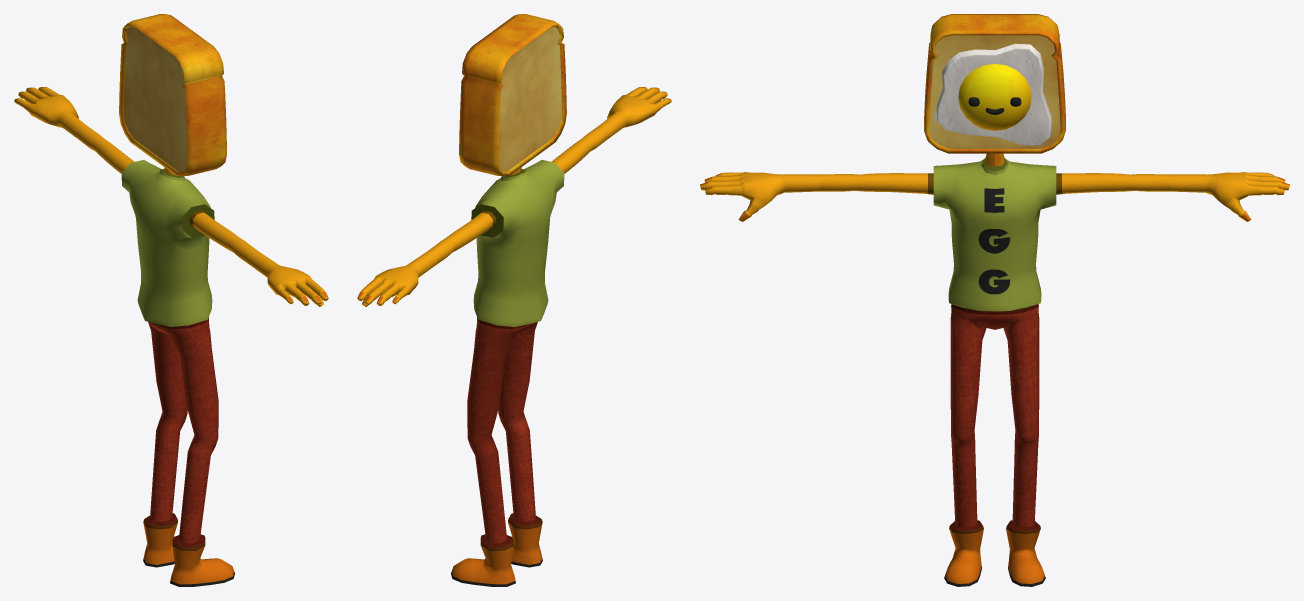
The model's file is Egg Boy.glb.
3 renders of one model, left to right at view 1: azimuth 30°, elevation 25°; view 2: azimuth 150°, elevation 25°; view 3: azimuth 270°, elevation 25°, orthographic.
Parts seen in each view (by area): view 1: _100Avatars_101_EggBoy; view 2: _100Avatars_101_EggBoy; view 3: _100Avatars_101_EggBoy.
Boxes of the visible parts, box(x1,y1,x2,y2) form: _100Avatars_101_EggBoy: box(14, 14, 328, 586); _100Avatars_101_EggBoy: box(357, 14, 671, 586); _100Avatars_101_EggBoy: box(700, 14, 1289, 586).
Bounding box in the file's own units: 0.7323 × 4.93 × 4.85.
1 material, 1 textured.
